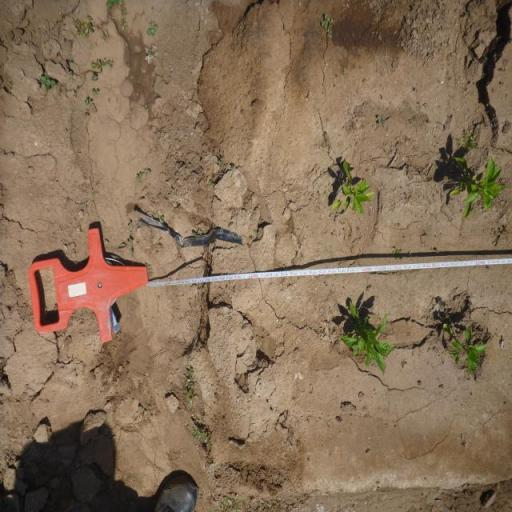plant: (444, 153, 508, 223), (339, 300, 395, 378), (440, 320, 491, 380), (329, 159, 375, 217)
weed: (190, 422, 214, 453), (452, 126, 480, 152), (74, 14, 96, 40), (184, 364, 196, 407), (218, 495, 246, 512), (492, 224, 510, 250), (320, 12, 336, 41), (89, 56, 114, 74), (118, 236, 136, 258), (39, 74, 56, 92), (146, 20, 160, 39), (389, 246, 404, 263), (146, 48, 159, 64), (104, 0, 126, 9), (118, 18, 129, 32), (172, 199, 182, 213), (136, 404, 146, 418), (436, 300, 447, 311), (376, 115, 386, 127), (90, 72, 100, 83), (192, 229, 205, 237), (82, 96, 92, 106), (91, 87, 102, 96), (83, 107, 91, 119), (134, 170, 142, 182), (400, 358, 408, 370), (158, 213, 166, 224), (102, 32, 110, 42), (143, 166, 151, 176), (127, 217, 133, 229), (427, 50, 435, 59), (130, 15, 138, 24), (120, 6, 127, 16), (209, 178, 216, 188), (217, 157, 224, 166), (140, 8, 146, 18), (446, 68, 450, 82), (107, 16, 114, 22), (157, 244, 163, 250), (248, 235, 254, 241), (434, 248, 440, 254), (480, 72, 486, 78), (253, 228, 258, 234), (230, 166, 236, 170), (424, 233, 428, 238)
